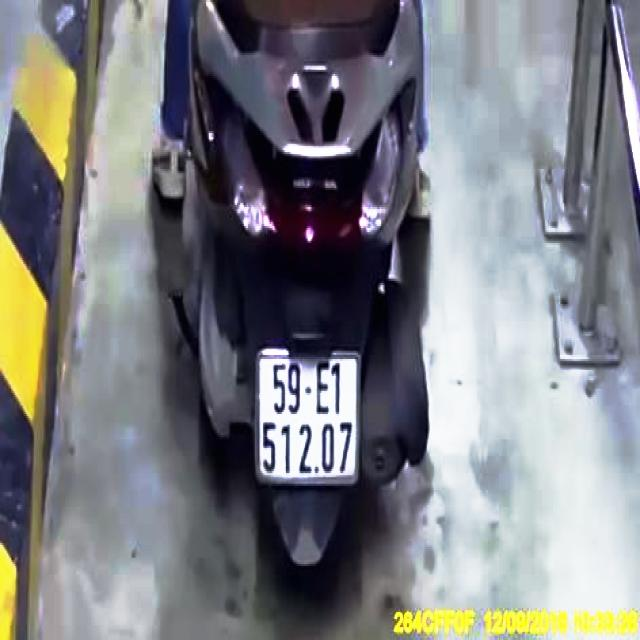license_plate: (258, 356, 360, 482)
